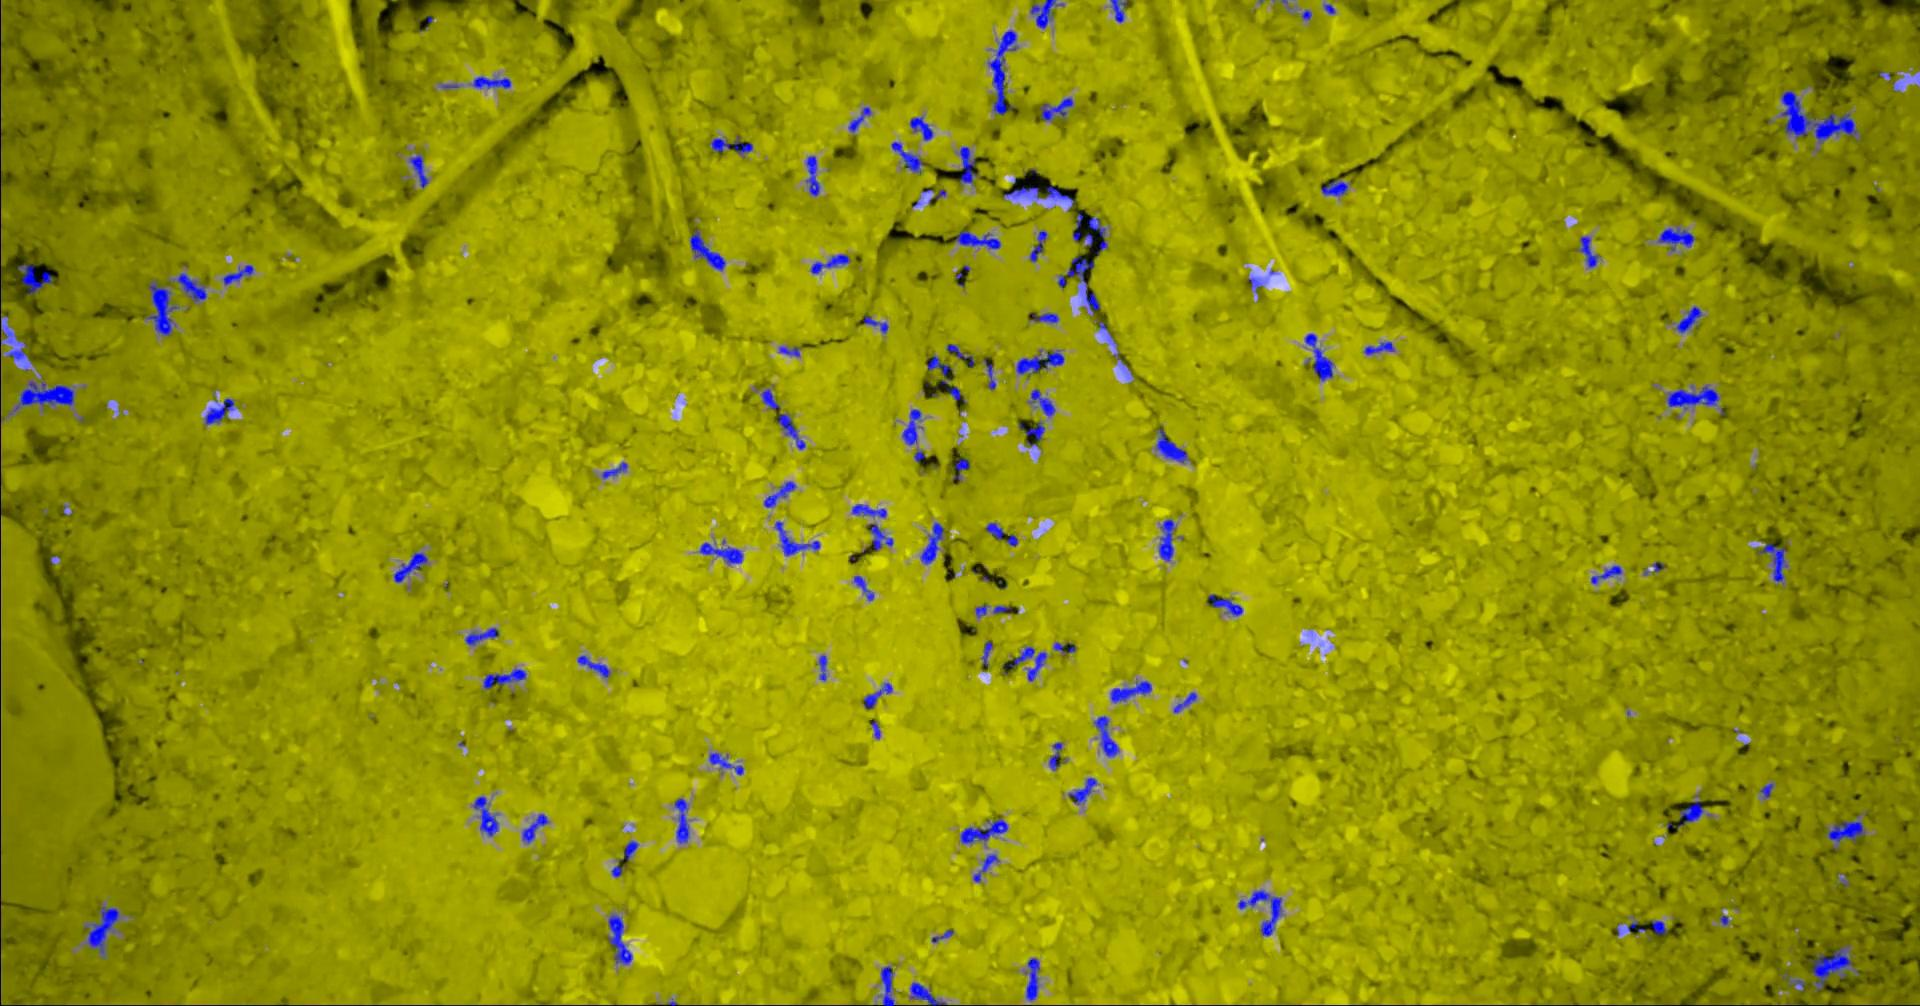ant: (987, 30, 1016, 114), (1057, 255, 1098, 314), (1237, 890, 1281, 936), (13, 380, 72, 412), (1810, 946, 1851, 991), (84, 906, 119, 958), (926, 354, 965, 401), (146, 281, 178, 335), (1002, 185, 1074, 208), (775, 520, 819, 555), (690, 227, 725, 271), (1002, 647, 1046, 680), (1072, 212, 1107, 253), (1304, 333, 1332, 380), (959, 818, 1007, 843), (1666, 385, 1718, 408), (1015, 349, 1063, 373), (607, 915, 631, 963), (1756, 542, 1785, 580), (17, 263, 52, 293), (1826, 814, 1864, 842), (891, 141, 924, 173), (1156, 428, 1186, 462), (392, 551, 427, 582), (472, 795, 498, 836), (919, 522, 943, 564), (171, 273, 206, 302), (777, 413, 805, 448), (1093, 715, 1117, 756), (1110, 680, 1150, 702), (1030, 0, 1063, 28), (698, 542, 742, 563), (483, 668, 524, 688), (521, 813, 549, 843), (1657, 227, 1694, 250), (955, 230, 1001, 248), (910, 982, 946, 1005), (763, 481, 795, 507), (709, 752, 743, 775), (711, 135, 752, 154), (1039, 97, 1072, 119), (673, 798, 690, 843), (810, 254, 850, 273), (902, 408, 922, 445), (204, 398, 232, 424), (863, 682, 891, 709), (1068, 777, 1096, 804), (1208, 593, 1242, 615), (577, 655, 610, 677), (866, 523, 893, 550), (1029, 387, 1054, 415), (973, 854, 998, 882), (1675, 306, 1702, 332), (1158, 520, 1175, 560), (1578, 236, 1600, 267), (959, 146, 977, 183), (1677, 800, 1702, 827), (946, 343, 974, 366), (408, 154, 427, 187), (1590, 565, 1622, 584), (223, 264, 253, 285), (1025, 958, 1039, 1000), (848, 105, 870, 132), (805, 155, 819, 196), (463, 627, 498, 644), (909, 116, 932, 140), (1029, 230, 1046, 260), (880, 967, 894, 1005), (1023, 420, 1044, 446), (851, 503, 886, 517), (1321, 178, 1347, 196), (1173, 692, 1196, 713), (853, 575, 872, 600), (471, 76, 510, 88), (601, 461, 627, 478), (1363, 340, 1393, 354), (862, 315, 888, 332), (1048, 742, 1062, 770), (761, 389, 778, 410), (983, 359, 996, 389), (1110, 0, 1126, 22), (952, 459, 969, 479), (985, 522, 1004, 539), (621, 840, 637, 859), (931, 929, 952, 942), (0, 324, 17, 342), (1031, 312, 1058, 323), (611, 859, 625, 876), (982, 641, 992, 666), (6, 349, 29, 359), (1053, 641, 1076, 652), (1759, 782, 1773, 798), (1651, 920, 1666, 934), (778, 345, 799, 356), (1248, 277, 1262, 291), (818, 655, 825, 680), (975, 603, 987, 617)
